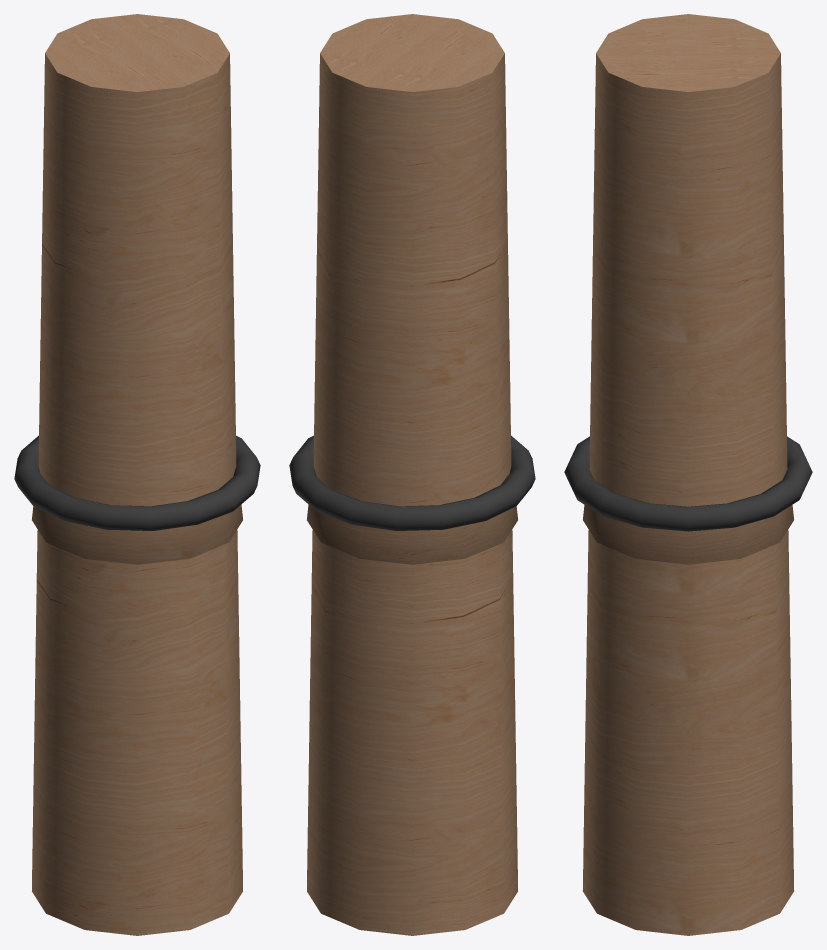
The model's file is Gate_Post-v1.0.0.glb.
3 renders of one model, left to right at view 1: azimuth 30°, elevation 25°; view 2: azimuth 150°, elevation 25°; view 3: azimuth 270°, elevation 25°, orthographic.
Parts seen in each view (by area): view 1: Geo_Post, Geo_BaseRing, Geo_Cap; view 2: Geo_Post, Geo_BaseRing, Geo_Cap; view 3: Geo_Post, Geo_BaseRing, Geo_Cap.
Boxes of the visible parts, box(x1,y1,x2,y2) form: Geo_Post: box(32, 14, 242, 935); Geo_BaseRing: box(14, 435, 260, 530); Geo_Cap: box(32, 504, 242, 564); Geo_Post: box(307, 14, 517, 935); Geo_BaseRing: box(289, 435, 535, 530); Geo_Cap: box(307, 504, 517, 564); Geo_Post: box(582, 14, 794, 935); Geo_BaseRing: box(564, 436, 812, 531); Geo_Cap: box(583, 505, 793, 564).
Size of the model in its own units: 30801 by 114684 by 30801.
3 materials, 2 textured.
